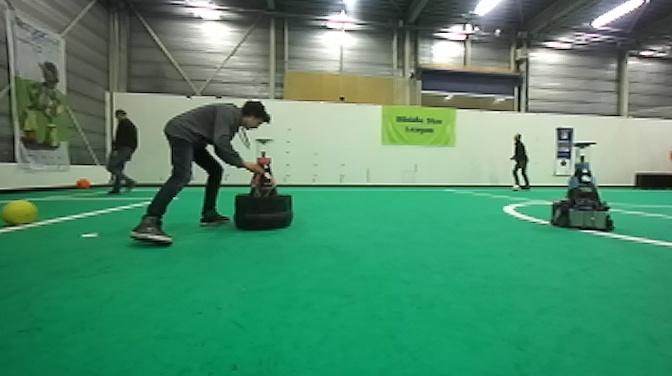ball: (1, 196, 40, 229), (73, 176, 93, 193), (509, 182, 521, 192)
human: (122, 97, 278, 247), (102, 107, 145, 199), (505, 130, 531, 191)
robot: (546, 139, 615, 236), (230, 135, 296, 234)
